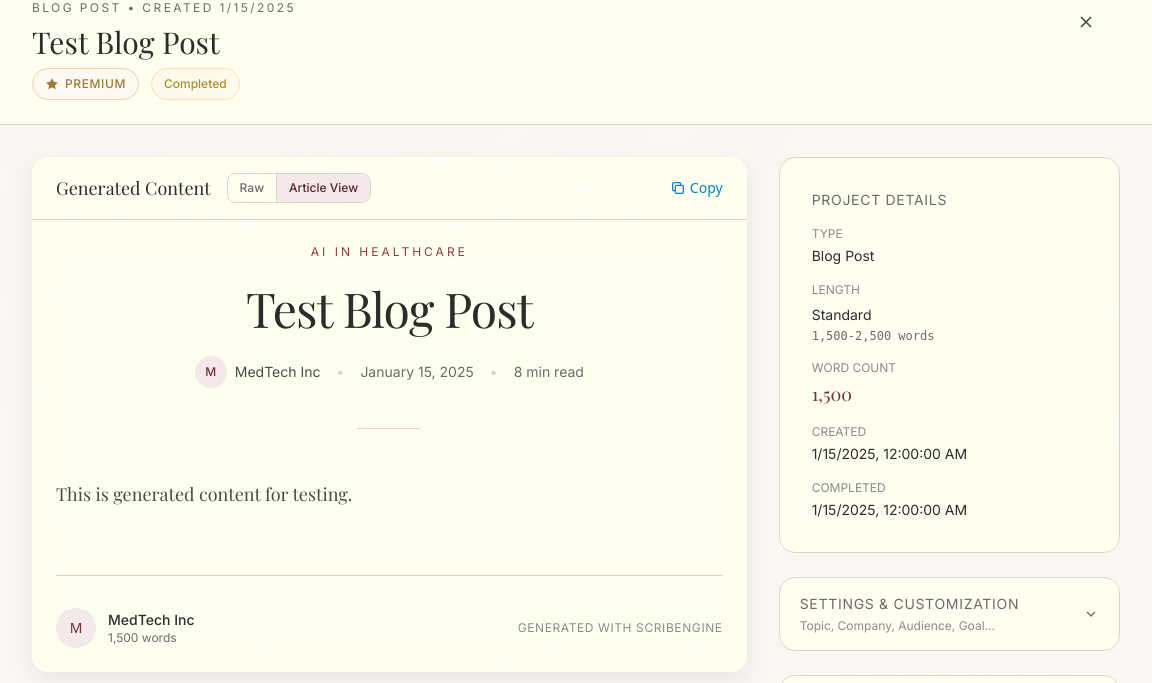
it: Project Settings Panel › Additional Instructions › displays the additional info textarea
This screenshot has width=1152, height=683.
Click the heading "Settings & Customization". click: (909, 604)
box: [800,594,1019,614]
(page scrolled)
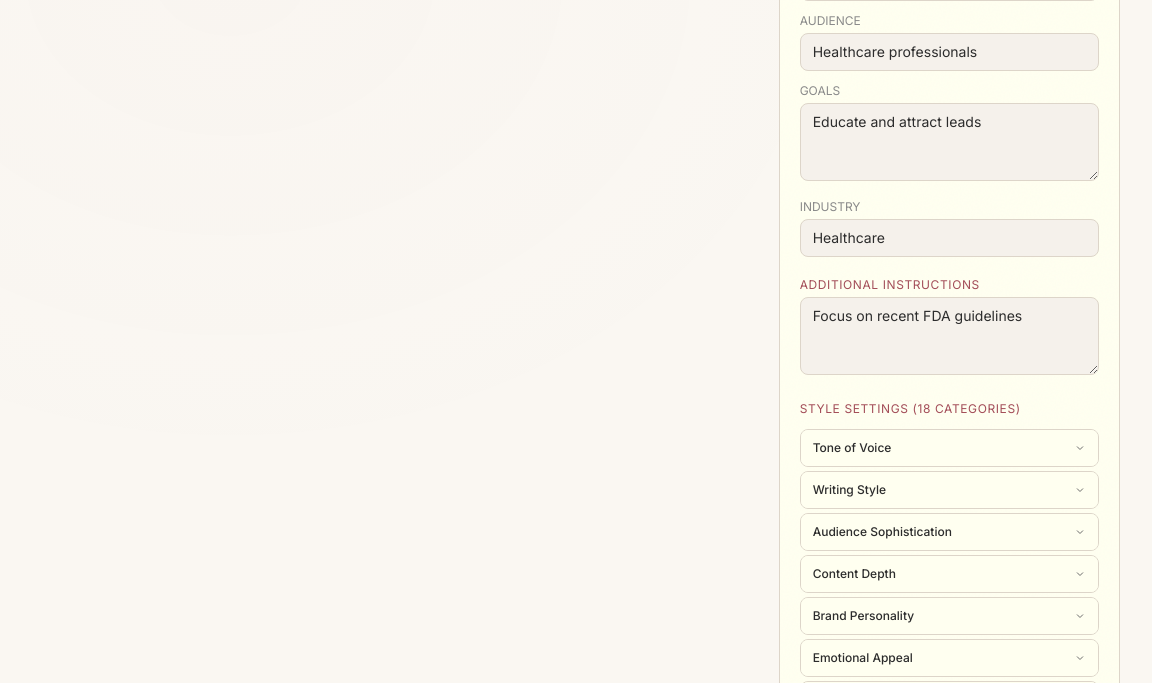
Check: the text box showing "Focus on recent FDA guidelines" below "Additional Instructions" is shown, box [800,297,1099,375]
